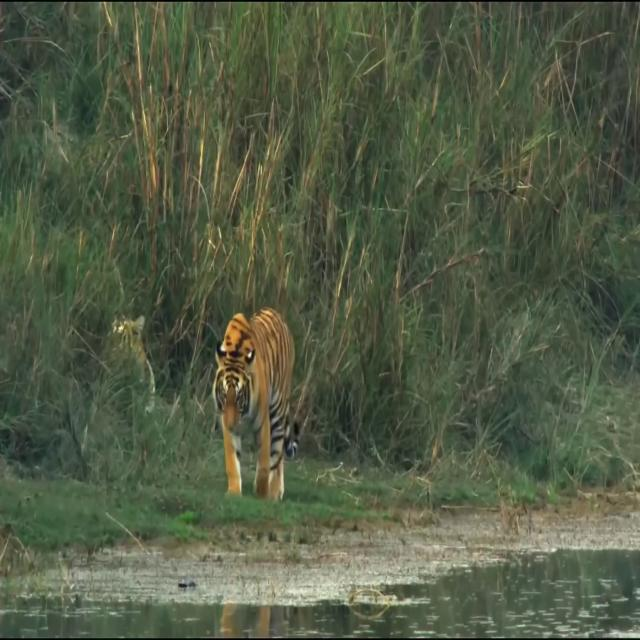tiger: (212, 306, 300, 499)
